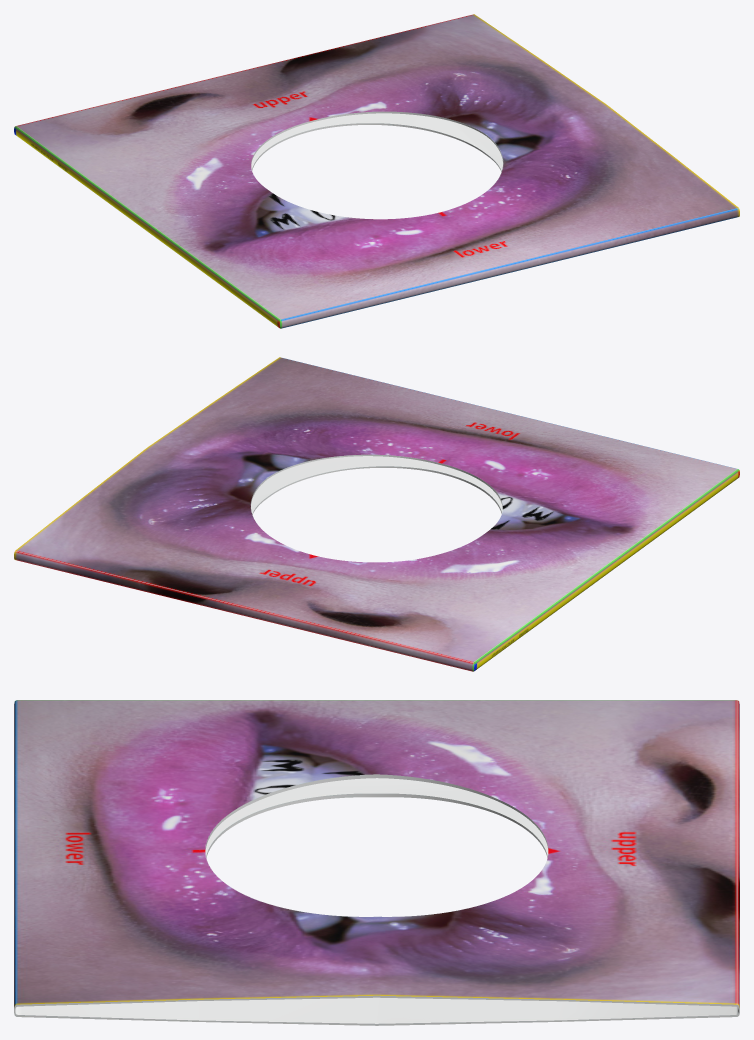
File: sleeve_7_single_holed.dae
The picture shows the model from 3 angles, top to bottom: view 1: azimuth 30°, elevation 25°; view 2: azimuth 150°, elevation 25°; view 3: azimuth 270°, elevation 25°; orthographic projection. The views are drawn at different scales.
Parts seen in each view (by area): view 1: sleeve; view 2: sleeve; view 3: sleeve.
Part boxes in pixels (x1,y1,x2,y2): sleeve: (14,14,739,328); sleeve: (14,357,739,671); sleeve: (14,700,739,1025).
Bounding box in the file's own units: 17.92 × 0.8236 × 17.99.
1 material, 1 textured.
